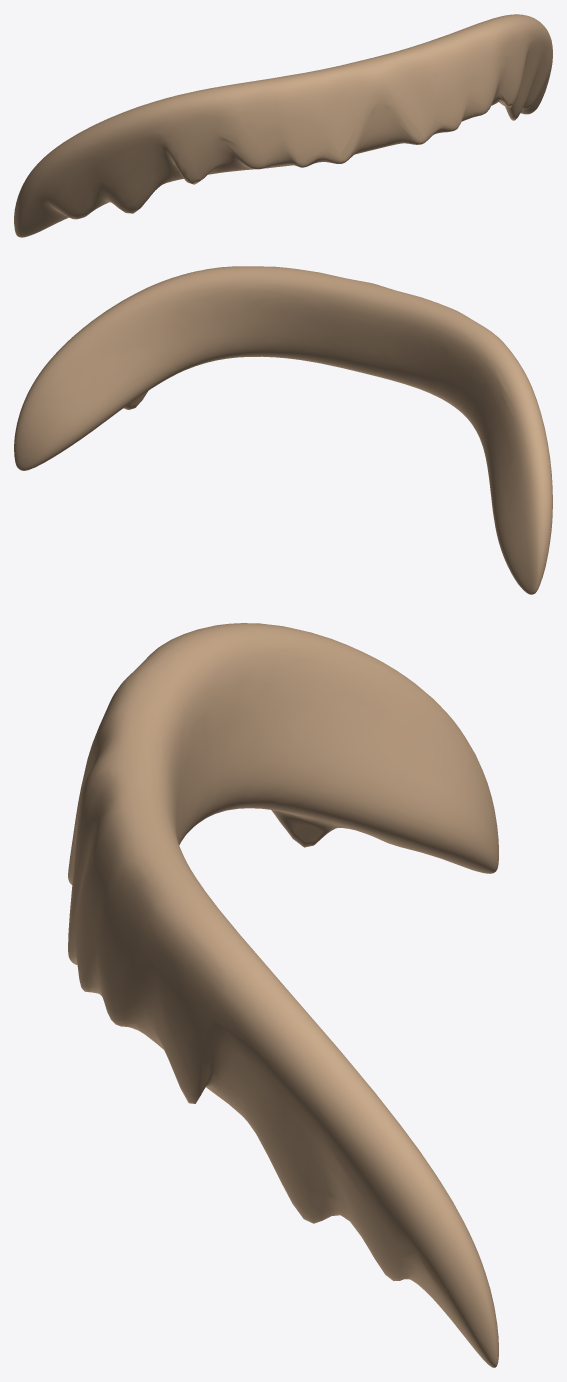
File: beard-mustache-d3e3c128.glb
3 views of the same model, one above another, from view 1: azimuth 30°, elevation 25°; view 2: azimuth 150°, elevation 25°; view 3: azimuth 270°, elevation 25° (orthographic). The views are drawn at different scales.
Visible parts, largest first — view 1: Geo_White_Old_Male_Mustache.001; view 2: Geo_White_Old_Male_Mustache.001; view 3: Geo_White_Old_Male_Mustache.001.
Boxes of the visible parts, x1,y1,x2,y2 form: Geo_White_Old_Male_Mustache.001: [14, 14, 552, 237]; Geo_White_Old_Male_Mustache.001: [14, 266, 552, 594]; Geo_White_Old_Male_Mustache.001: [68, 623, 498, 1367].
Size of the model in its own units: 0.6279 by 0.2049 by 0.2218.
